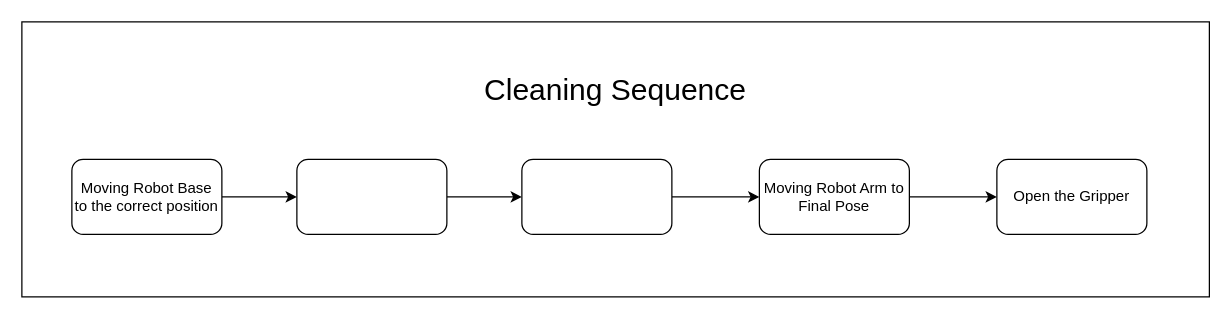
The diagram is 1231 pixels wide and 319 high, and some of its shapes have lost their labels. The shapes that lost their labels are listed below. From the top down, each one's centre as x and y in pixels, then its label:
At [371,196]: "Moving Robot Arm to Initial Pose".
At [596,196]: "Close the Gripper".
